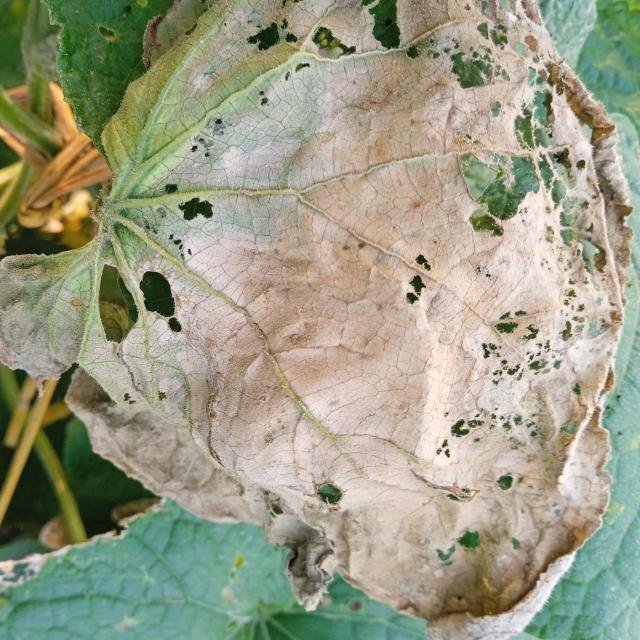cucumber_anthracnose: (71, 11, 616, 608)
